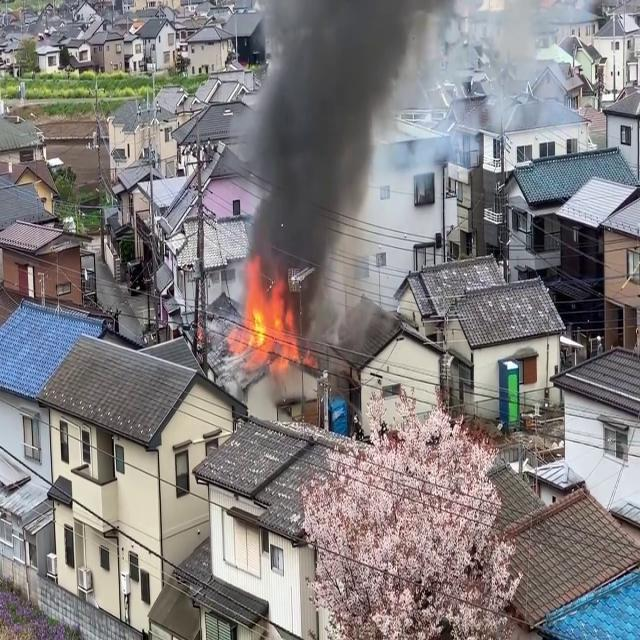Fire: (231, 264, 301, 368)
Smoke: (234, 1, 406, 320)
